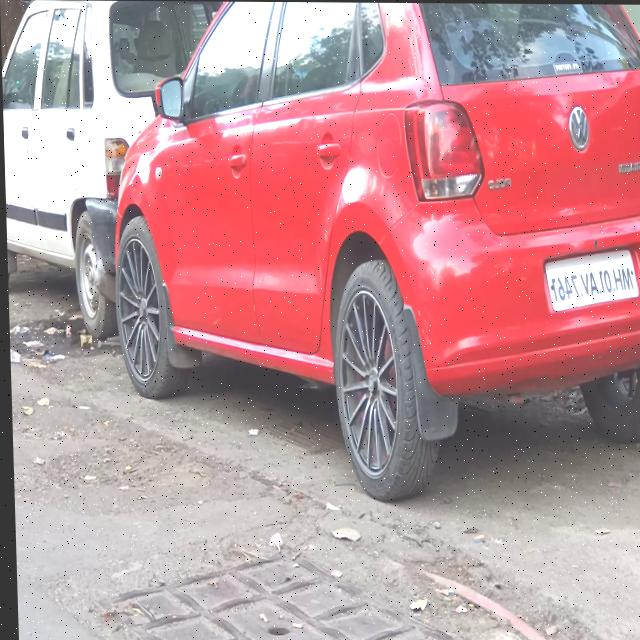plate: (542, 245, 640, 313)
